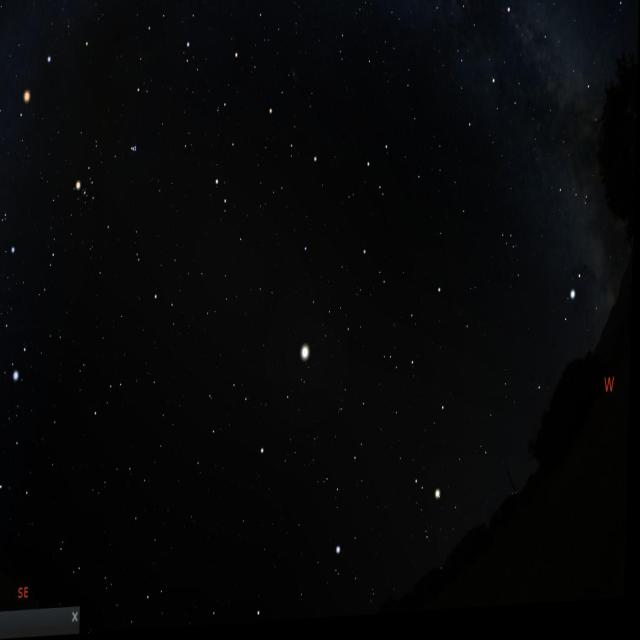cygnus: (472, 0, 600, 124)
orion: (0, 205, 29, 410)
pleiades: (122, 141, 144, 169)
taurus: (65, 113, 147, 238)
